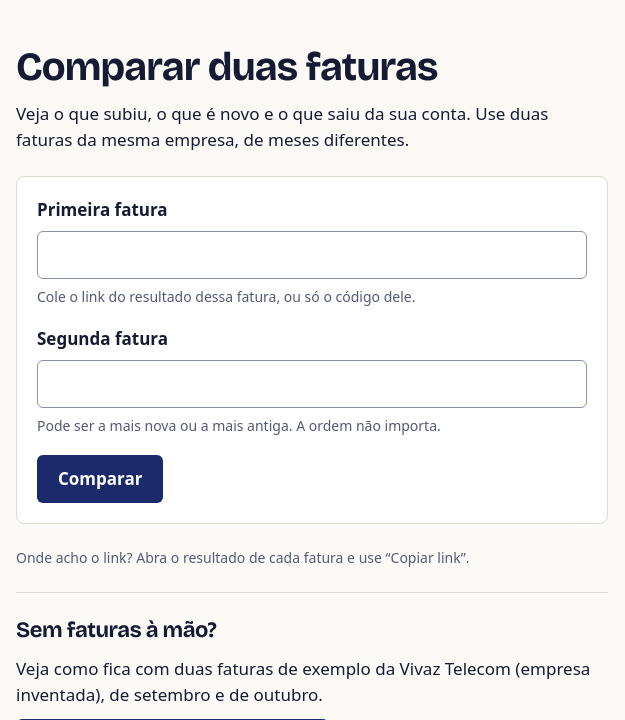
Test case: RF16: comparar faturas › operadoras diferentes mostram "Compare faturas da mesma operadora"
Type "5b0e8f0e-3b8a-4f5e-9c1a-0a1b2c3d4e5f" into the field labelled "Primeira fatura" at {"x": 312, "y": 254}, box [37,230,587,278]
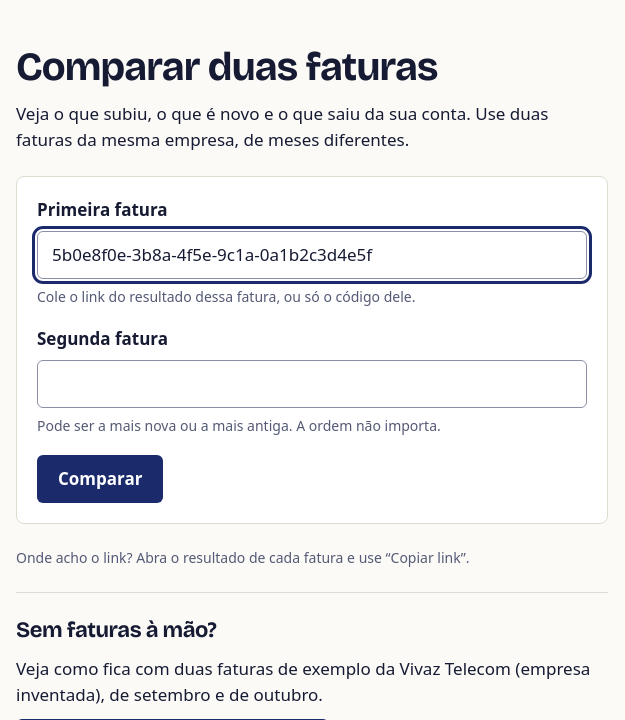
Type "9d4c1a77-52a3-4e0b-8f6d-7e8f9a0b1c2d" into the field labelled "Segunda fatura" at {"x": 312, "y": 384}, box [37,360,587,408]
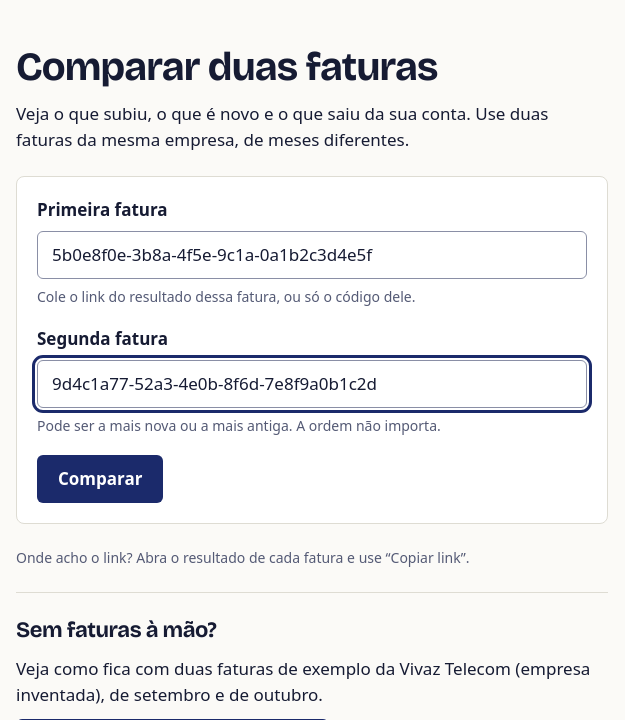
Click the button "Comparar" at {"x": 100, "y": 479}, box [37,455,164,503]
(page scrolled)
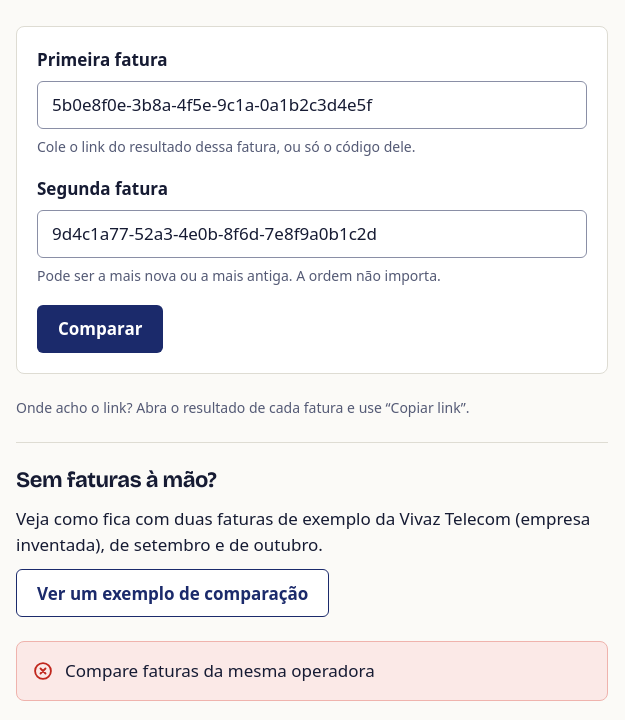
Expected: the message reads "Compare faturas da mesma operadora", [65,659,375,682]
